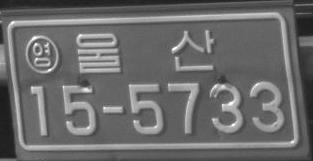-: (101, 103, 124, 116)
1: (24, 84, 55, 136)
3: (207, 81, 245, 135), (246, 80, 284, 134)
5: (127, 82, 165, 135), (61, 83, 97, 136)
7: (166, 82, 205, 134)
영: (24, 34, 59, 74)
울산_D: (75, 29, 215, 74)
